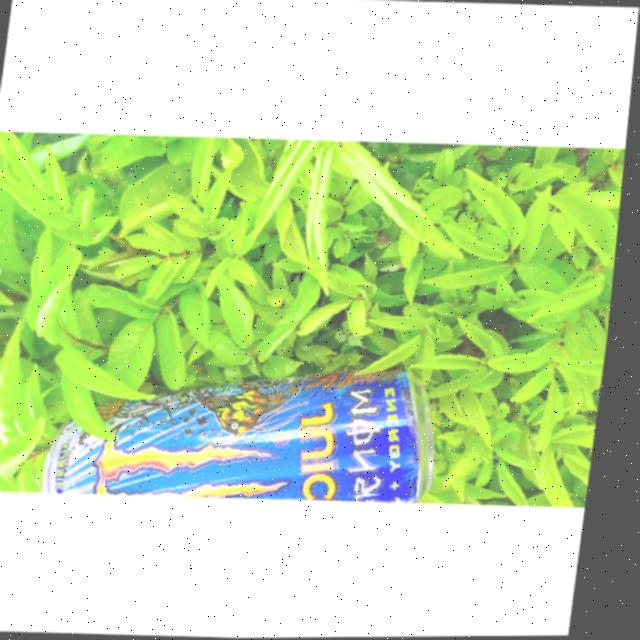Monster Aussie Lemonade: (52, 352, 451, 504)
